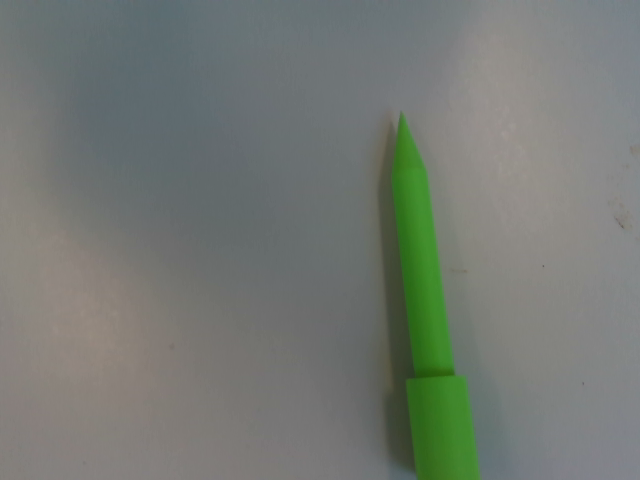Probe: (382, 106, 488, 480)
